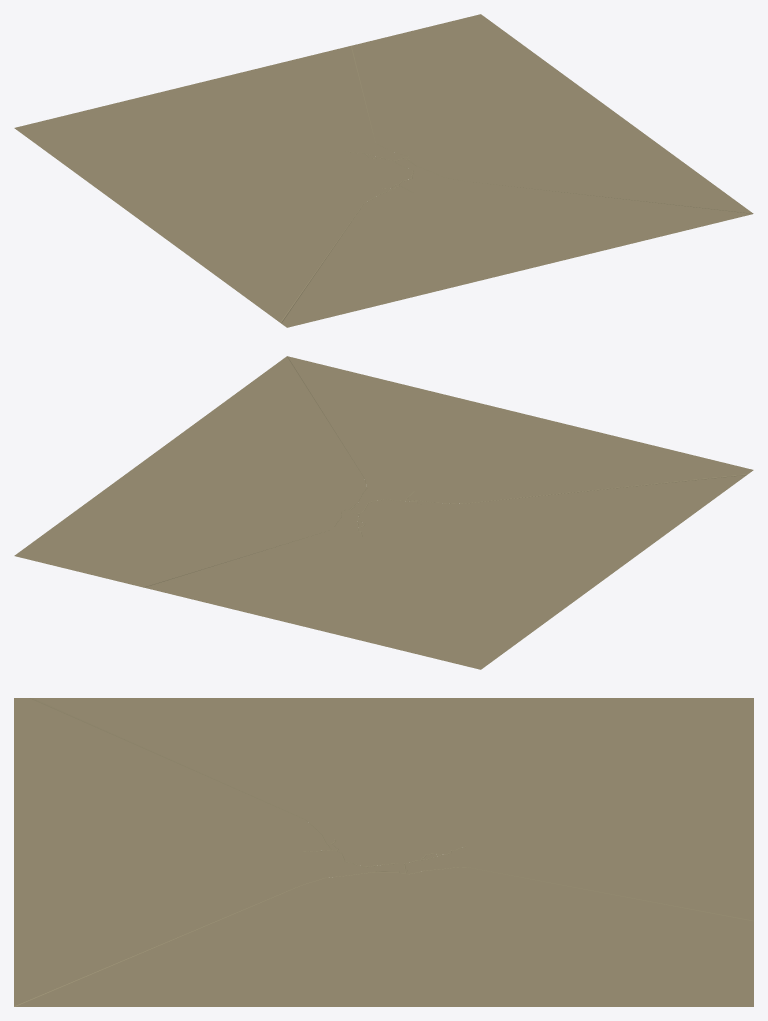
File: terrain__e1871_prefire.glb
The picture shows the model from 3 angles, top to bottom: view 1: azimuth 30°, elevation 25°; view 2: azimuth 150°, elevation 25°; view 3: azimuth 270°, elevation 25°; orthographic projection. The views are drawn at different scales.
Parts seen in each view (by area): view 1: terrain__e1871_prefire; view 2: terrain__e1871_prefire; view 3: terrain__e1871_prefire.
Boxes of the visible parts, box(x1,y1,x2,y2) form: terrain__e1871_prefire: box(14, 14, 753, 327); terrain__e1871_prefire: box(14, 356, 753, 669); terrain__e1871_prefire: box(14, 698, 753, 1006).
Size of the model in its own units: 50800 by 6.28 by 51450.
